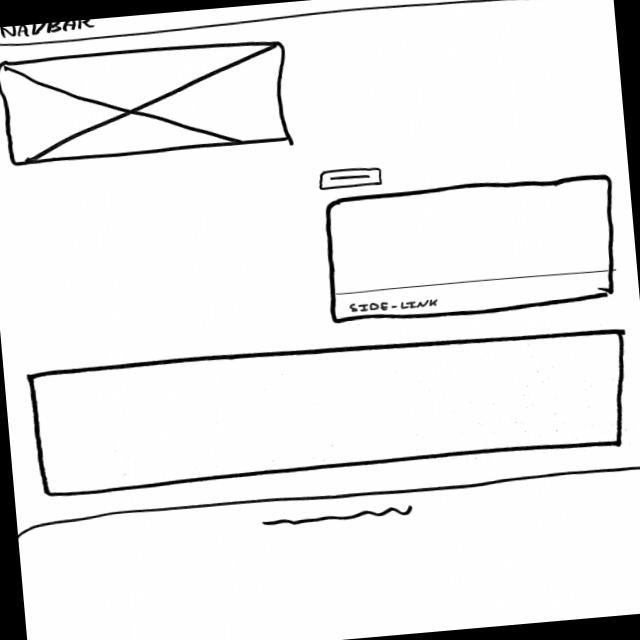container: (21, 319, 634, 500), (313, 168, 625, 331), (0, 0, 613, 52)
icon-button: (311, 160, 386, 194)
image: (0, 33, 298, 169)
label: (342, 293, 443, 317), (0, 18, 99, 40)
text: (256, 503, 418, 533)
